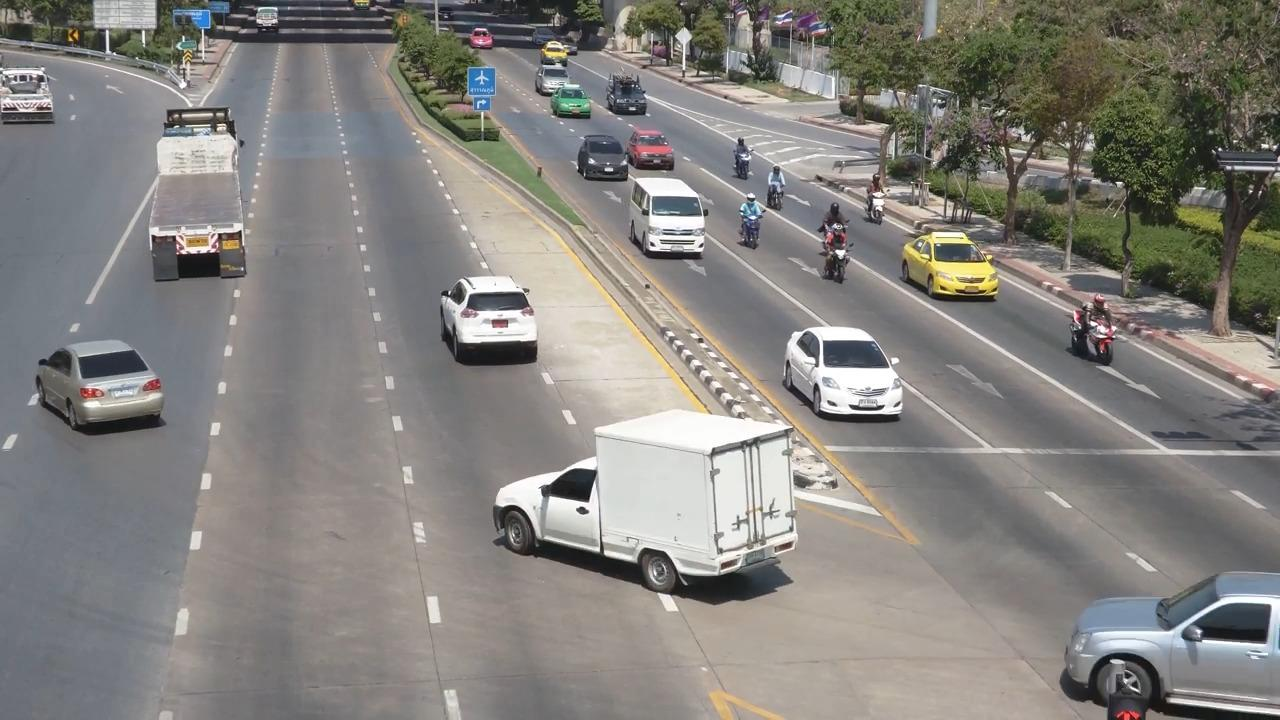CAR: (477, 401, 816, 617), (1050, 529, 1280, 720), (24, 330, 173, 438), (787, 312, 915, 429), (455, 294, 585, 409), (892, 222, 1009, 312), (622, 169, 713, 263), (0, 69, 56, 150), (568, 125, 633, 191), (620, 126, 687, 176), (596, 69, 653, 121), (535, 35, 585, 68), (552, 81, 594, 115), (248, 8, 282, 49)
HGV_BUS: (128, 102, 274, 302)
MOTOR: (1058, 287, 1123, 369), (799, 215, 860, 279), (755, 161, 796, 218), (721, 133, 756, 191), (734, 193, 769, 244), (858, 172, 893, 222)
